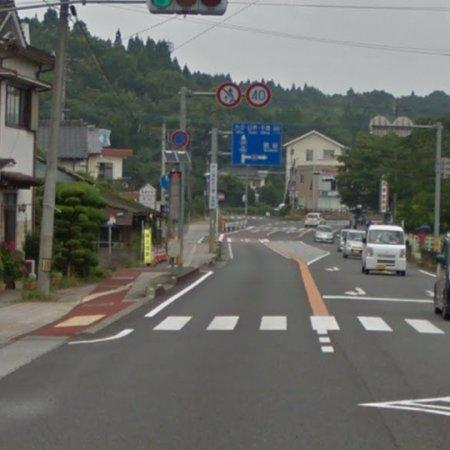crosswalks: (152, 313, 445, 335)
